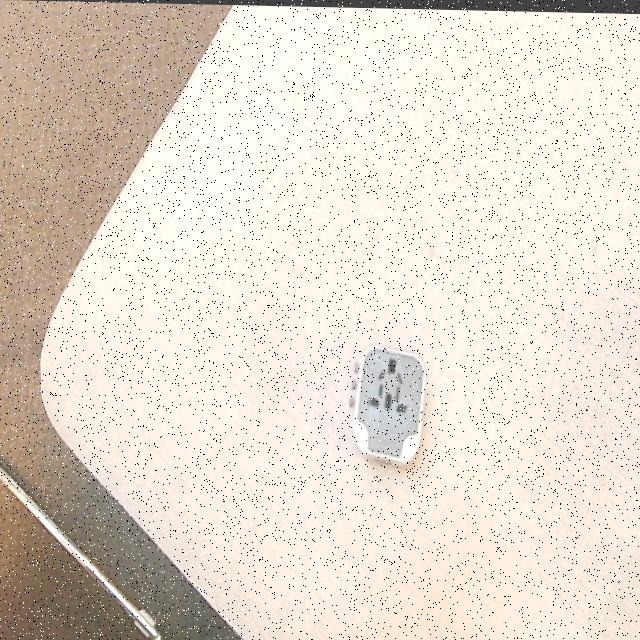adapter: (349, 341, 426, 464)
